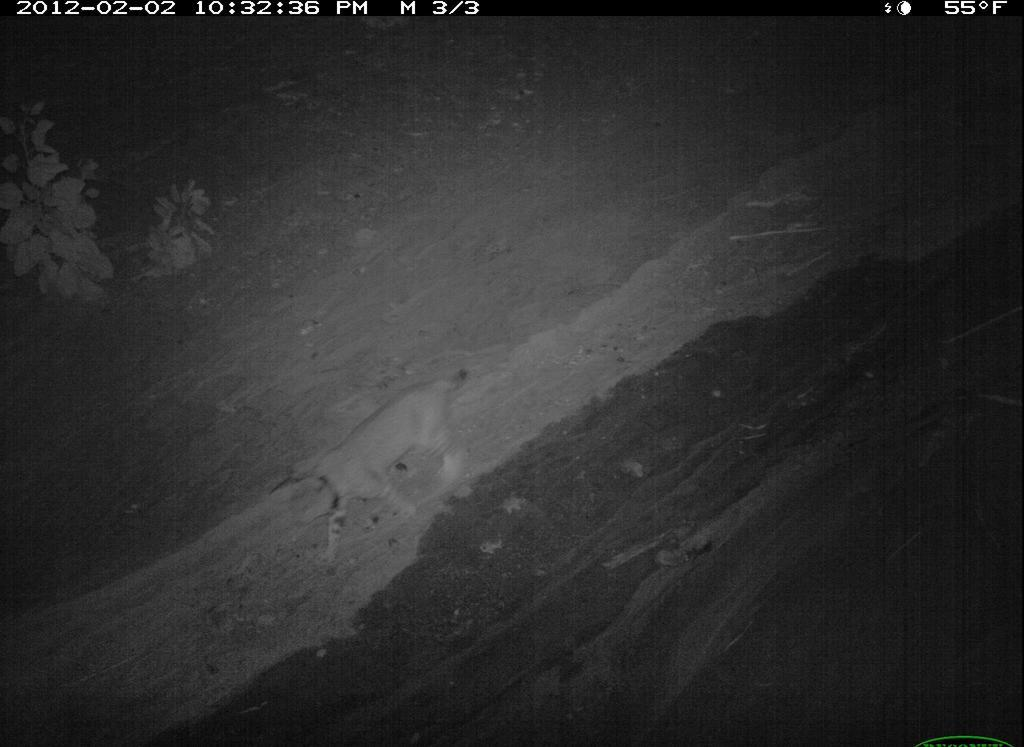bobcat: (571, 738, 953, 747)
